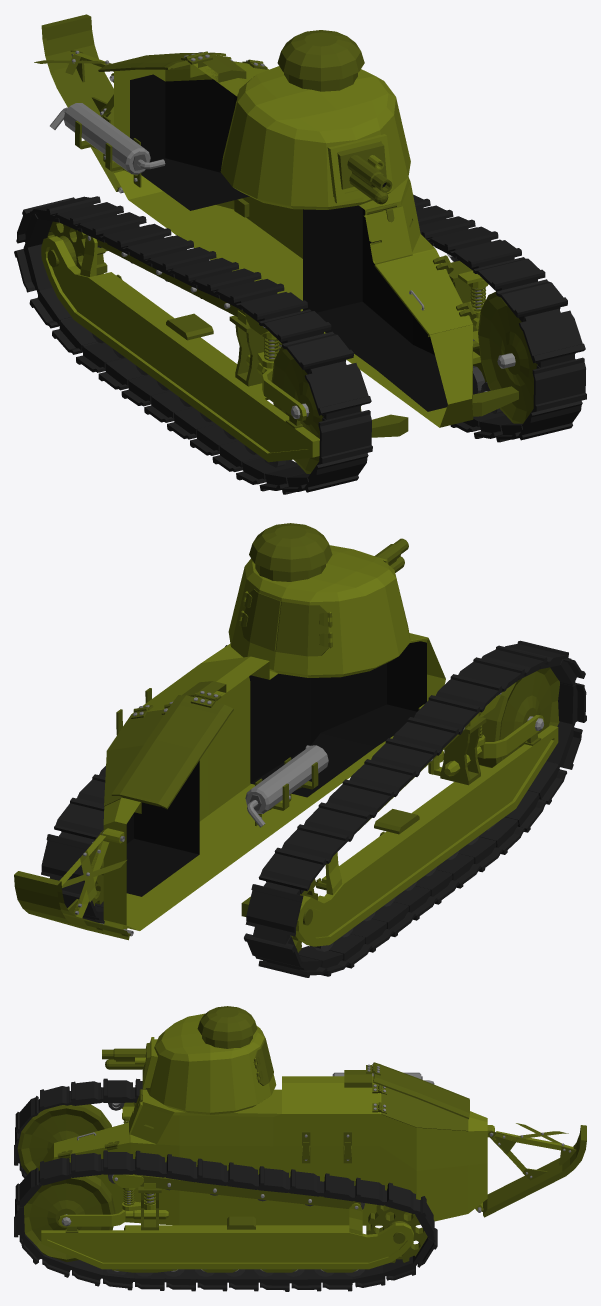
The model's file is reno-ft17_4_model.glb.
The picture shows the model from 3 angles, top to bottom: view 1: azimuth 30°, elevation 25°; view 2: azimuth 150°, elevation 25°; view 3: azimuth 270°, elevation 25°; orthographic projection. The views are drawn at different scales.
Parts seen in each view (by area): view 1: Plane, Cube.013 (×28), Circle, Plane.039, Cube.005 (×8), Cube.011, Circle.004, Plane.021, Circle.001, Cylinder.016, Circle.016, Cylinder.005 (+14 smaller); view 2: Plane, Cube.013 (×29), Plane.039, Circle, Plane.034, Cube.005 (×3), Circle.001, Circle.016, Plane.021, Cylinder.015, Plane.029, Cylinder.016 (+9 smaller); view 3: Plane, Cube.005 (×27), Plane.004, Circle, Circle.004, Circle.016, Cube.013 (×4), Plane.029, Plane.021, Plane.006, Plane.034, Circle.001 (+13 smaller).
Boxes of the visible parts, bbox=[...] form: Plane: bbox=[114, 62, 473, 427]; Cube.013 (×28): bbox=[14, 196, 372, 492]; Circle: bbox=[220, 66, 410, 209]; Plane.039: bbox=[41, 236, 319, 462]; Cube.005 (×8): bbox=[419, 216, 586, 440]; Cube.011: bbox=[374, 249, 474, 336]; Circle.004: bbox=[478, 291, 537, 423]; Plane.021: bbox=[41, 14, 120, 191]; Circle.001: bbox=[277, 30, 364, 91]; Cylinder.016: bbox=[63, 103, 150, 174]; Circle.016: bbox=[271, 346, 361, 473]; Cylinder.005: bbox=[365, 203, 412, 264]; Plane: bbox=[103, 638, 445, 930]; Cube.013 (×29): bbox=[244, 640, 586, 977]; Plane.039: bbox=[295, 725, 558, 946]; Circle: bbox=[228, 545, 410, 677]; Plane.034: bbox=[111, 693, 233, 809]; Cube.005 (×3): bbox=[41, 774, 105, 894]; Circle.001: bbox=[249, 523, 332, 581]; Circle.016: bbox=[477, 667, 559, 767]; Plane.021: bbox=[14, 871, 129, 940]; Cylinder.015: bbox=[275, 601, 332, 656]; Plane.029: bbox=[104, 704, 170, 806]; Cylinder.016: bbox=[245, 745, 328, 813]; Plane: bbox=[38, 1076, 487, 1225]; Cube.005 (×27): bbox=[15, 1150, 437, 1291]; Plane.004: bbox=[41, 1222, 413, 1269]; Circle: bbox=[146, 1013, 276, 1114]; Circle.004: bbox=[24, 1175, 115, 1262]; Circle.016: bbox=[17, 1104, 111, 1174]; Cube.013 (×4): bbox=[15, 1078, 135, 1133]; Plane.029: bbox=[378, 1085, 468, 1131]; Plane.021: bbox=[483, 1125, 586, 1217]; Plane.006: bbox=[137, 1175, 361, 1208]; Plane.034: bbox=[372, 1062, 469, 1119]; Circle.001: bbox=[197, 1006, 257, 1048].
Size of the model in its own units: 1.36 by 1.74 by 3.72.
